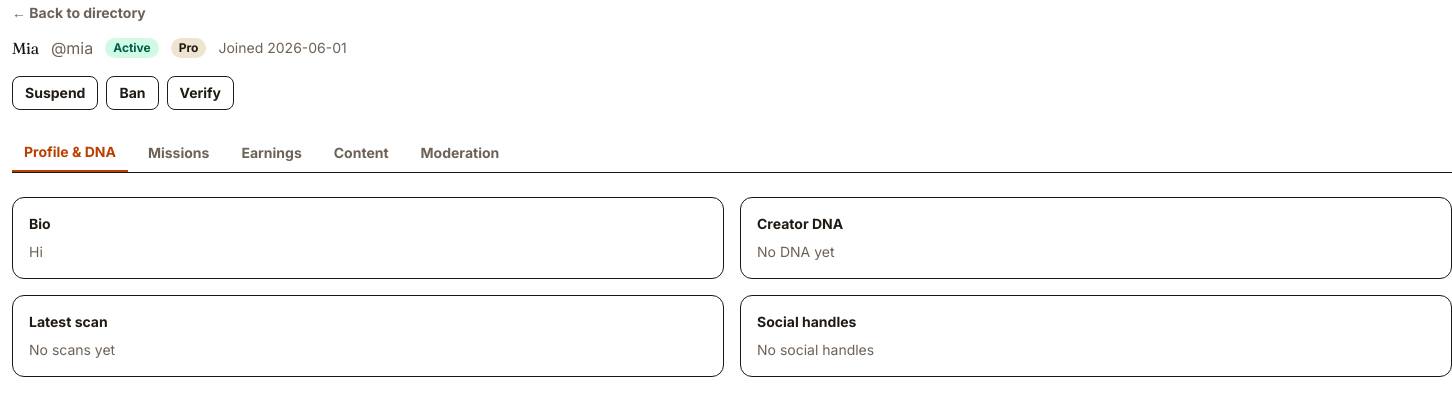
it: CreatorDetailView › switches to the Missions tab and shows a mission
Step 1. Click the button "Missions" → click(179, 153), box [136,134,221,172]
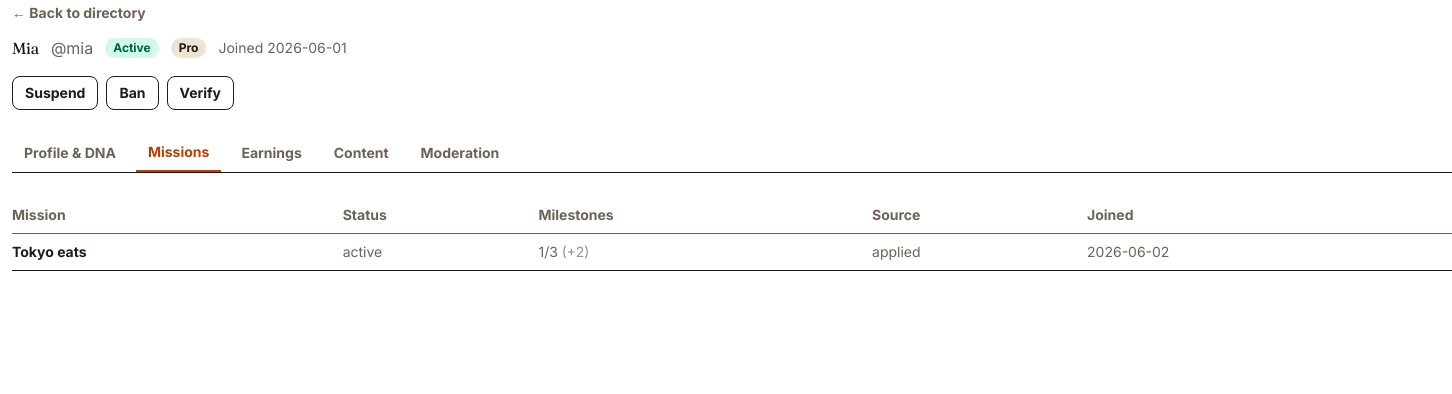
Expected: the text "Tokyo eats" is shown, [12,234,343,270]
